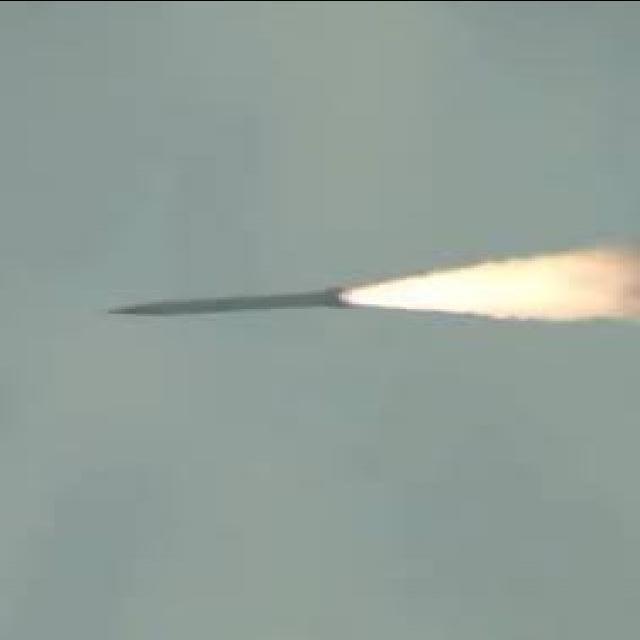missile: (105, 287, 362, 319)
